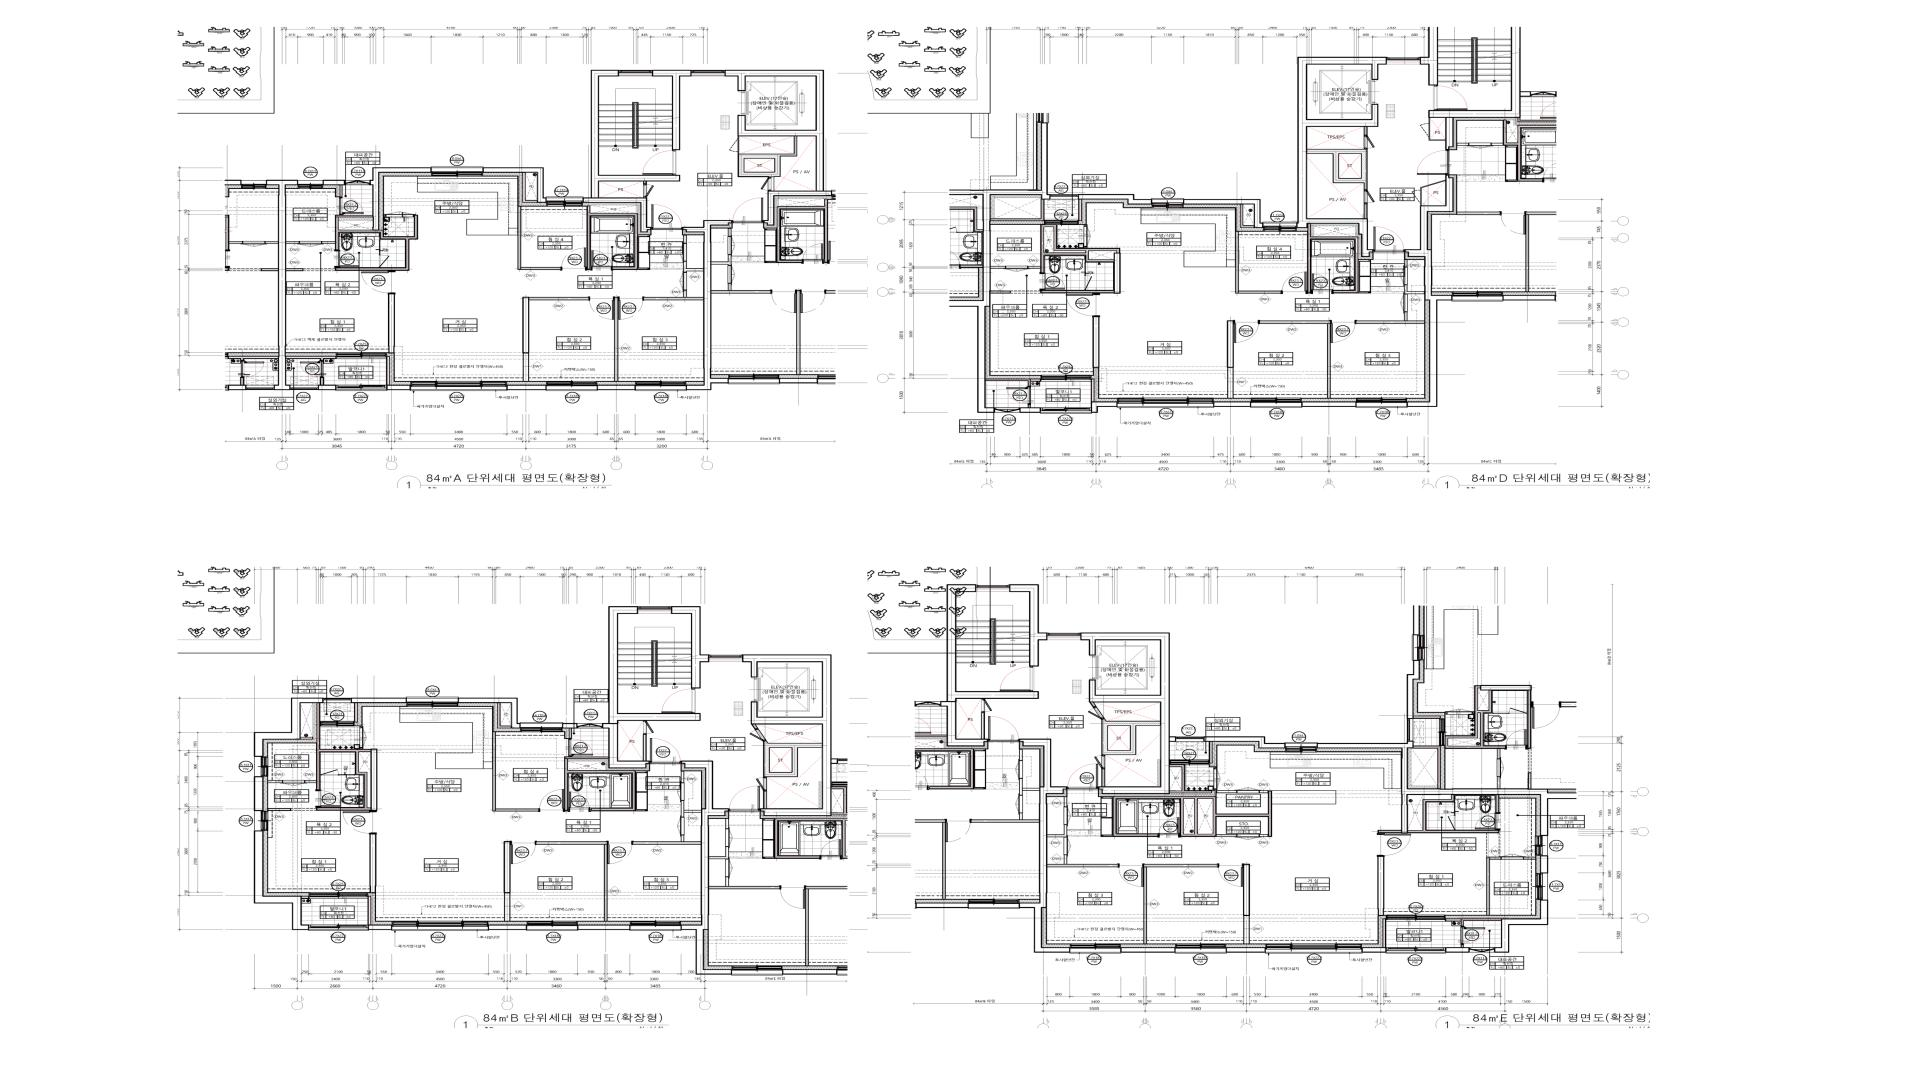door: (662, 688, 696, 713), (642, 150, 676, 175), (651, 202, 682, 229), (1373, 227, 1404, 253), (1377, 833, 1411, 857), (1000, 667, 1034, 691), (650, 738, 680, 765), (1068, 764, 1098, 790), (1435, 86, 1468, 109), (1067, 294, 1100, 318), (343, 811, 377, 833), (361, 272, 396, 294), (617, 297, 645, 320), (607, 841, 633, 865), (1118, 864, 1145, 887), (1233, 320, 1261, 343), (1217, 864, 1242, 887), (589, 297, 615, 320), (510, 841, 537, 864), (1331, 320, 1357, 343), (539, 790, 564, 812), (562, 248, 587, 270), (1282, 272, 1307, 294), (568, 791, 591, 812), (568, 738, 593, 757), (1461, 926, 1486, 944), (334, 249, 359, 268), (1006, 386, 1031, 405), (1039, 273, 1065, 290), (1312, 273, 1333, 294), (1158, 818, 1180, 837), (315, 790, 340, 807), (1476, 812, 1501, 829), (339, 198, 364, 215), (591, 251, 612, 270), (299, 361, 323, 377), (748, 729, 766, 745), (1087, 707, 1105, 721), (729, 136, 740, 154), (1213, 767, 1221, 790), (756, 777, 767, 791), (1093, 754, 1105, 769), (644, 182, 654, 198), (981, 699, 993, 712), (1084, 224, 1091, 248), (1364, 136, 1375, 149), (1364, 190, 1375, 203), (761, 177, 771, 191), (360, 727, 367, 749), (1502, 853, 1524, 860), (1237, 787, 1259, 794), (1006, 265, 1029, 272), (644, 721, 654, 735), (378, 255, 389, 268), (320, 769, 339, 775), (1237, 835, 1259, 840), (299, 241, 322, 247), (1448, 815, 1456, 829), (1084, 276, 1092, 290), (284, 781, 305, 786)
wall: (1316, 742, 1548, 836), (1298, 57, 1387, 257), (725, 70, 832, 225), (977, 190, 1051, 413), (583, 70, 680, 232), (603, 607, 700, 769), (1080, 632, 1176, 794), (945, 584, 1039, 746), (742, 655, 831, 816), (1428, 3, 1522, 150), (1404, 175, 1455, 407), (1019, 738, 1071, 953), (680, 761, 732, 975), (682, 220, 733, 390), (1113, 791, 1273, 837), (266, 179, 298, 390), (1143, 864, 1217, 945), (316, 703, 371, 811), (537, 841, 608, 922), (522, 297, 589, 381), (1261, 320, 1331, 398), (255, 831, 309, 930), (335, 215, 418, 272), (253, 698, 323, 757), (1040, 224, 1121, 273), (369, 167, 431, 231), (492, 732, 539, 811), (564, 760, 636, 811), (1307, 224, 1358, 294), (1407, 795, 1498, 833), (587, 206, 638, 270), (651, 70, 691, 150), (671, 605, 709, 688), (1420, 3, 1458, 86), (1009, 584, 1047, 666), (1236, 232, 1282, 294), (1494, 901, 1548, 953), (518, 207, 562, 270), (1308, 149, 1367, 190), (1183, 199, 1263, 228), (483, 167, 546, 203), (764, 740, 822, 777), (1101, 719, 1160, 754), (459, 698, 521, 728), (1170, 764, 1212, 794), (990, 199, 1044, 222), (1042, 227, 1085, 253), (1204, 737, 1286, 749), (1047, 855, 1118, 868), (1486, 857, 1502, 915), (1357, 313, 1424, 324), (1077, 194, 1153, 204), (1420, 179, 1445, 206), (1242, 864, 1250, 944), (645, 290, 704, 301), (633, 836, 700, 845), (1226, 320, 1234, 398), (1197, 799, 1213, 833), (1338, 154, 1361, 178), (504, 841, 510, 922), (522, 173, 537, 203), (371, 749, 377, 811), (1092, 318, 1100, 368), (369, 835, 376, 894), (388, 294, 394, 353), (1429, 117, 1445, 141), (680, 800, 702, 818), (253, 777, 264, 811), (986, 378, 1031, 386), (1240, 204, 1254, 228), (497, 703, 510, 728), (615, 298, 618, 381), (1378, 857, 1383, 915), (351, 698, 407, 703), (1040, 290, 1114, 294), (1302, 402, 1357, 407), (1121, 948, 1175, 953), (576, 924, 630, 930), (1091, 402, 1117, 413), (1114, 253, 1121, 294), (286, 356, 336, 361), (1226, 947, 1266, 953), (1461, 919, 1501, 926), (1047, 824, 1067, 837), (683, 261, 703, 273), (506, 385, 547, 390), (488, 924, 527, 930), (597, 385, 636, 390), (1213, 402, 1251, 407), (1404, 285, 1424, 294), (1445, 947, 1470, 953), (1362, 947, 1387, 953), (1540, 856, 1548, 873), (386, 385, 411, 390), (368, 924, 392, 930), (1077, 199, 1083, 222), (1019, 407, 1042, 413), (564, 757, 608, 760), (1382, 919, 1386, 948), (386, 356, 390, 385), (642, 735, 646, 761), (981, 712, 985, 738), (318, 385, 336, 390), (335, 215, 372, 218), (1378, 829, 1402, 833), (323, 181, 345, 185), (1091, 378, 1095, 401), (562, 723, 578, 728), (1209, 742, 1213, 764), (990, 290, 1011, 294), (353, 703, 357, 723), (368, 897, 371, 924), (764, 791, 767, 808), (1101, 769, 1105, 786), (1495, 795, 1499, 812), (268, 808, 291, 811), (1364, 203, 1367, 219), (1216, 790, 1237, 793), (1217, 835, 1237, 837), (680, 771, 684, 783), (339, 186, 343, 198), (286, 269, 303, 272), (268, 781, 284, 783), (1445, 919, 1461, 922), (1031, 378, 1042, 382), (990, 266, 1006, 269), (319, 377, 324, 385), (683, 235, 687, 244), (568, 729, 572, 738), (1364, 127, 1367, 136), (286, 241, 299, 244), (322, 241, 335, 244), (301, 737, 313, 740), (305, 781, 316, 783), (1524, 857, 1536, 860), (1101, 835, 1113, 837), (1089, 703, 1097, 707), (1404, 260, 1408, 268), (1029, 266, 1040, 269), (1064, 796, 1067, 807), (752, 725, 758, 729), (1259, 790, 1269, 793), (1259, 835, 1267, 837), (302, 897, 309, 899), (1101, 796, 1113, 798), (1027, 405, 1031, 407), (1461, 944, 1464, 947)
window: (392, 920, 488, 931), (411, 381, 506, 392), (1266, 944, 1362, 953), (1117, 398, 1213, 407), (407, 696, 459, 707), (431, 166, 483, 177), (630, 920, 680, 931), (636, 381, 686, 392), (547, 381, 596, 392), (1175, 944, 1226, 953), (527, 922, 578, 931), (1071, 944, 1121, 953), (1251, 398, 1302, 407), (1357, 398, 1407, 407), (520, 723, 563, 732), (309, 924, 368, 931), (309, 893, 368, 899), (1386, 915, 1445, 922), (546, 196, 583, 207), (1042, 375, 1091, 382), (1387, 947, 1445, 953), (1535, 873, 1548, 901), (1263, 222, 1298, 232), (336, 352, 386, 359), (336, 385, 386, 392), (1040, 407, 1091, 414), (1153, 198, 1183, 208), (1286, 742, 1316, 752), (709, 654, 742, 662), (255, 811, 268, 831), (255, 757, 268, 777), (1535, 836, 1548, 856), (1387, 57, 1420, 65), (638, 607, 671, 613), (1047, 633, 1080, 640), (976, 585, 1009, 592), (1458, 4, 1491, 11), (298, 181, 323, 189), (320, 721, 355, 727), (1170, 760, 1209, 764), (323, 698, 351, 703), (290, 385, 318, 390), (1051, 194, 1077, 199), (1044, 220, 1079, 224), (578, 723, 601, 728), (996, 407, 1019, 413), (1176, 737, 1204, 741), (1470, 948, 1494, 952), (345, 181, 369, 185)
